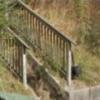stairs: (0, 23, 62, 100)
